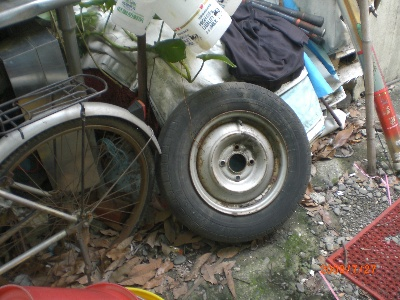bottle: (147, 1, 232, 51), (109, 1, 155, 36)
tire: (158, 82, 312, 245)
